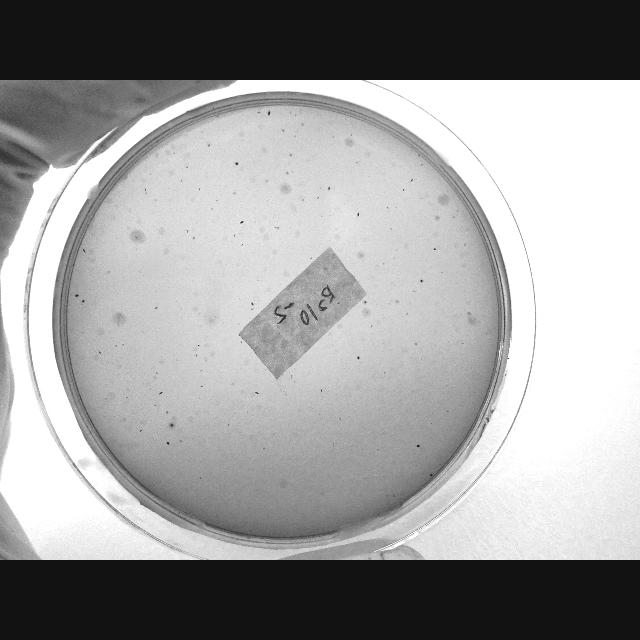colony: (267, 110, 271, 116), (159, 390, 163, 396), (170, 422, 174, 428), (264, 178, 268, 184), (185, 228, 189, 234), (429, 472, 433, 478), (250, 301, 254, 307), (167, 440, 170, 446), (327, 186, 331, 190), (316, 196, 320, 200), (235, 162, 239, 166), (240, 220, 244, 224), (410, 178, 414, 182), (200, 384, 204, 388), (98, 350, 102, 354), (75, 294, 79, 298), (82, 299, 86, 303), (289, 153, 293, 157), (232, 191, 236, 195), (192, 236, 196, 240), (134, 236, 138, 240), (154, 306, 158, 310), (416, 444, 420, 448), (421, 279, 424, 283), (320, 388, 322, 394), (84, 248, 86, 254), (421, 162, 423, 168), (286, 170, 288, 176), (197, 343, 200, 347), (258, 110, 260, 114), (282, 128, 284, 132), (294, 134, 296, 138), (302, 122, 304, 126), (208, 143, 210, 147), (186, 165, 188, 169), (181, 179, 183, 183), (144, 188, 146, 192), (199, 188, 201, 192), (234, 234, 236, 238), (310, 256, 312, 260), (358, 212, 360, 216), (403, 188, 405, 192), (464, 242, 466, 246), (364, 300, 366, 304), (357, 356, 359, 360), (255, 392, 259, 394), (418, 154, 420, 158), (351, 133, 353, 137), (356, 160, 358, 164), (302, 198, 304, 202), (216, 198, 218, 202), (108, 269, 110, 273), (195, 353, 197, 357), (238, 322, 240, 326), (289, 112, 291, 115), (150, 172, 152, 175), (277, 227, 279, 230), (210, 208, 213, 210), (125, 396, 128, 398), (250, 308, 253, 310), (295, 114, 297, 116), (241, 244, 243, 246), (275, 226, 277, 228), (390, 228, 392, 230), (387, 207, 389, 209), (434, 248, 436, 250), (200, 370, 202, 372), (140, 430, 142, 432), (291, 171, 293, 173), (332, 136, 334, 138), (359, 160, 361, 162), (302, 112, 302, 116)
